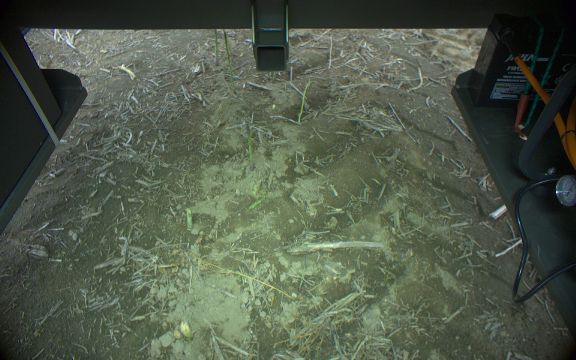aspa: (221, 28, 237, 94), (244, 123, 254, 170), (248, 195, 266, 211), (214, 29, 219, 68), (185, 208, 193, 230)
